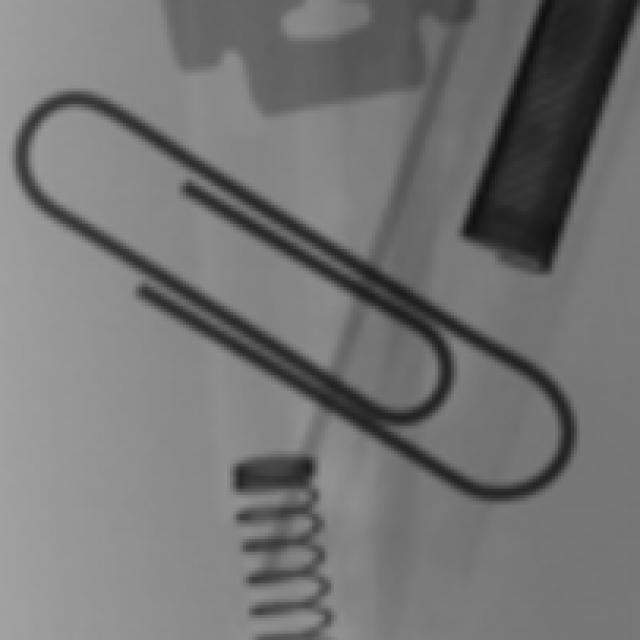GUN: (446, 1, 639, 304)
